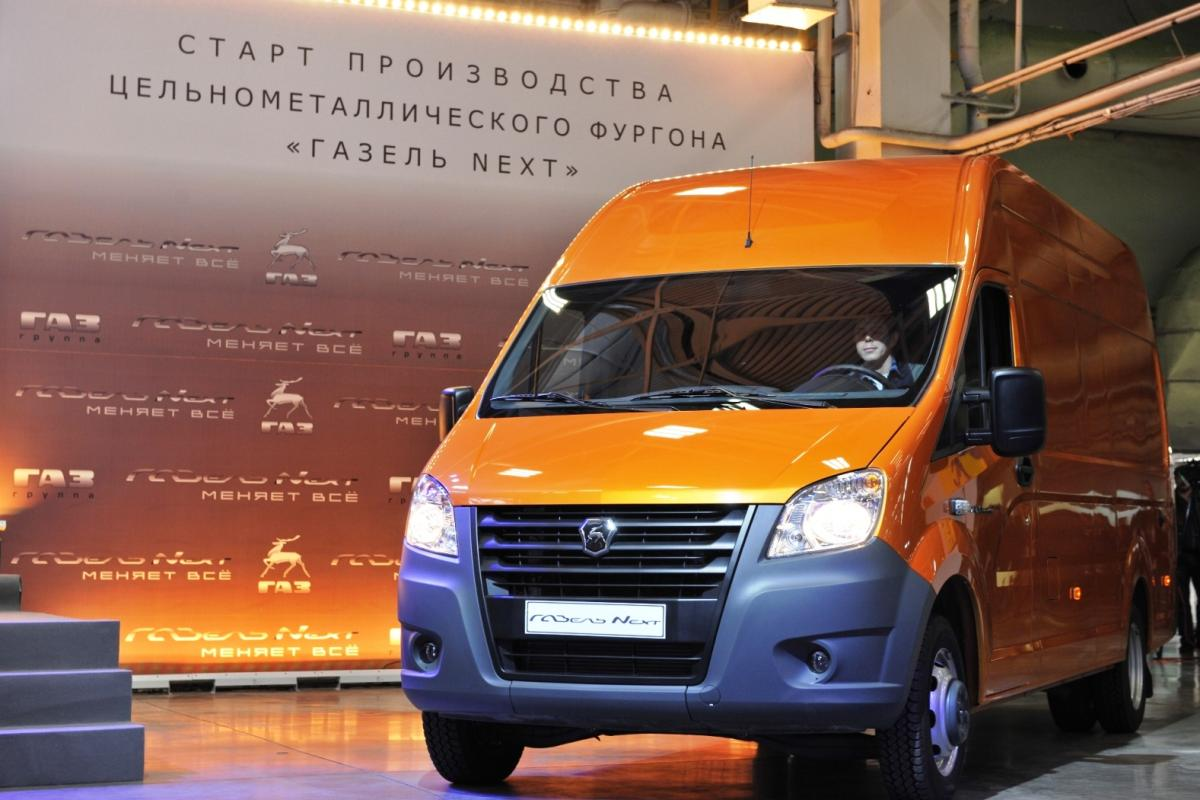van: (403, 158, 1184, 800)
